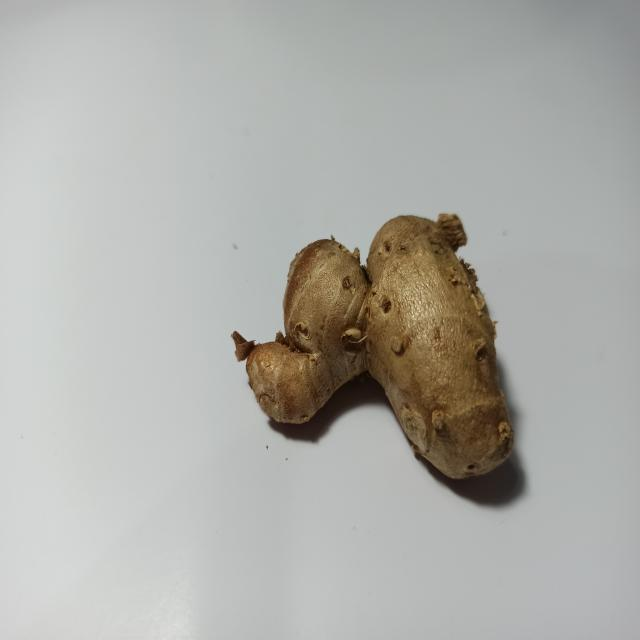ginger: (245, 190, 515, 466)
